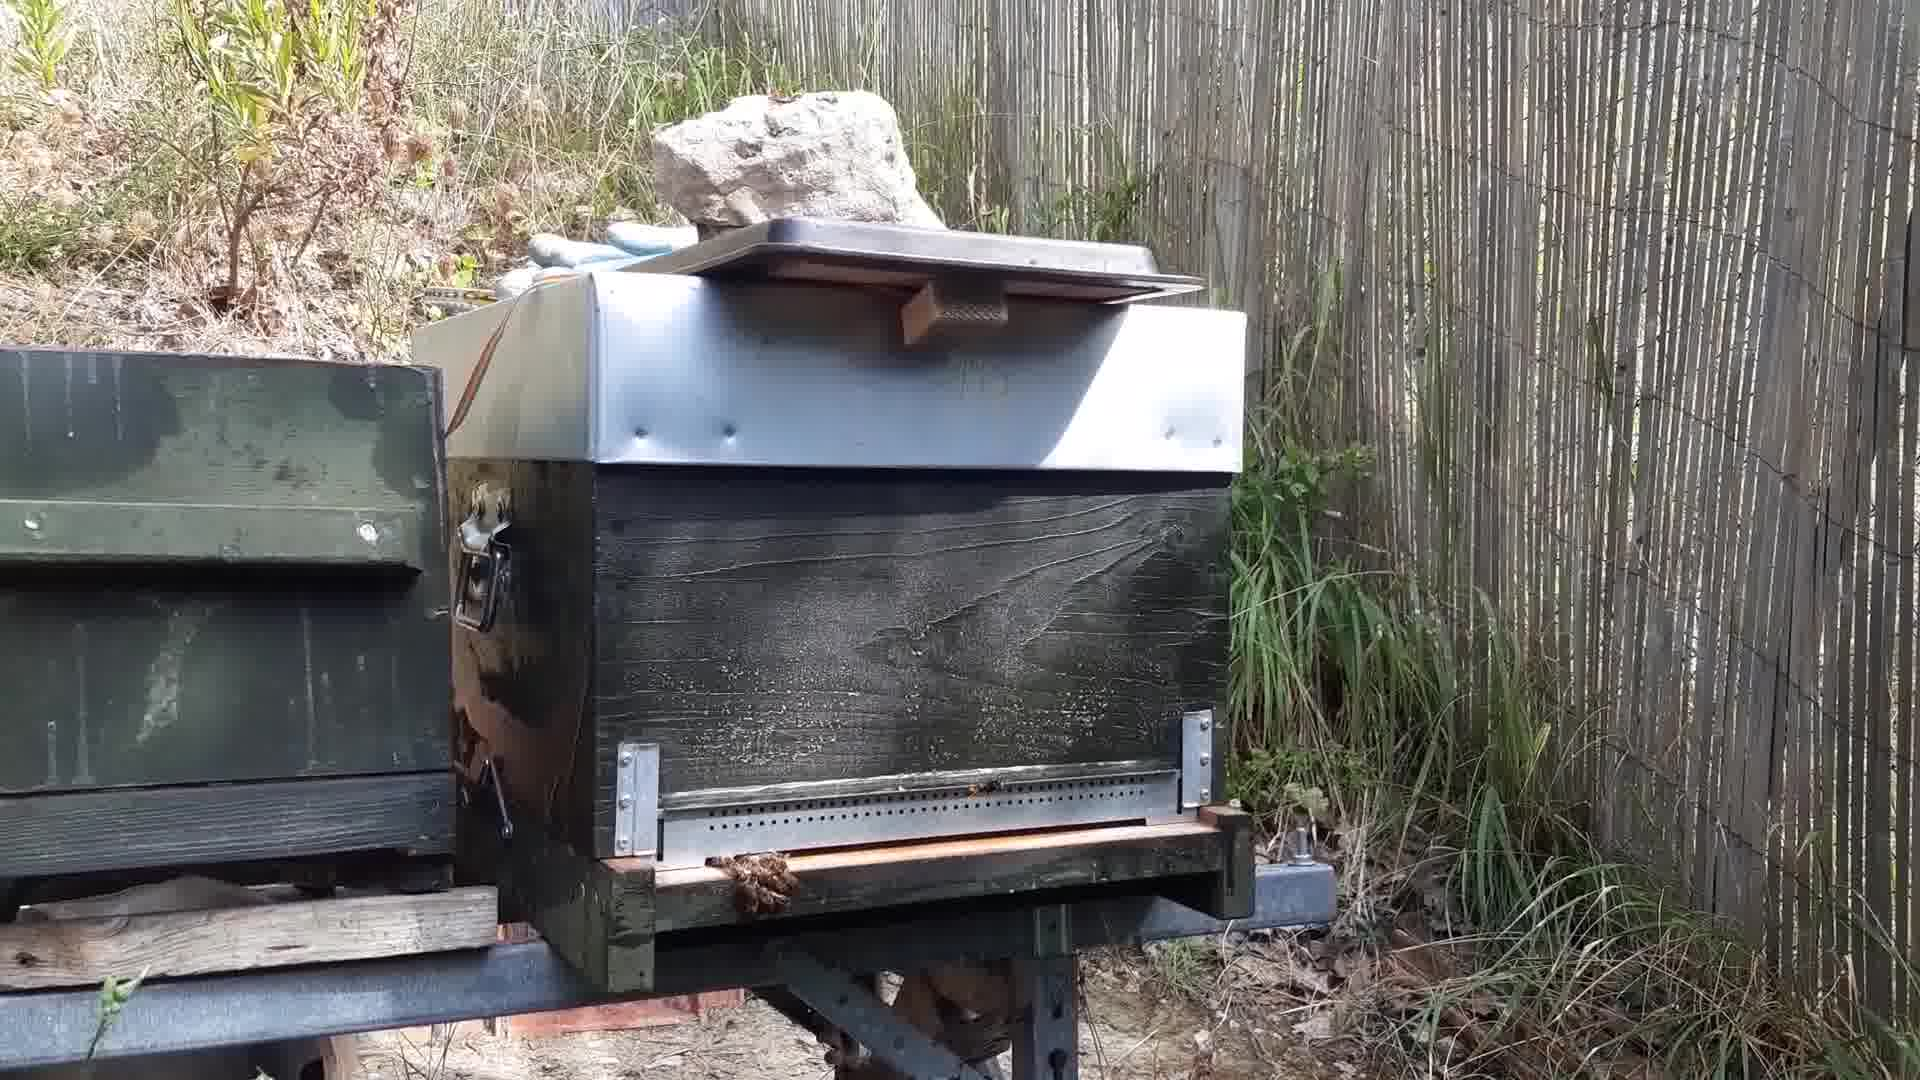bee: (713, 839, 804, 920)
hornet: (965, 778, 1007, 804)
